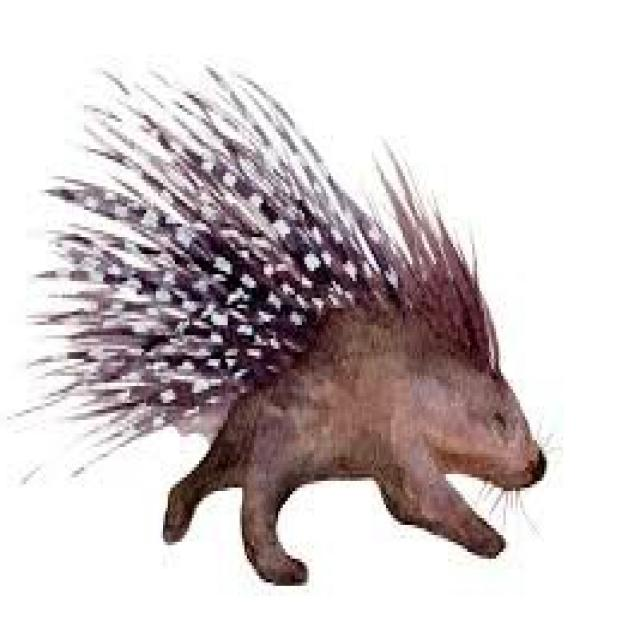porcupine: (48, 68, 547, 582)
